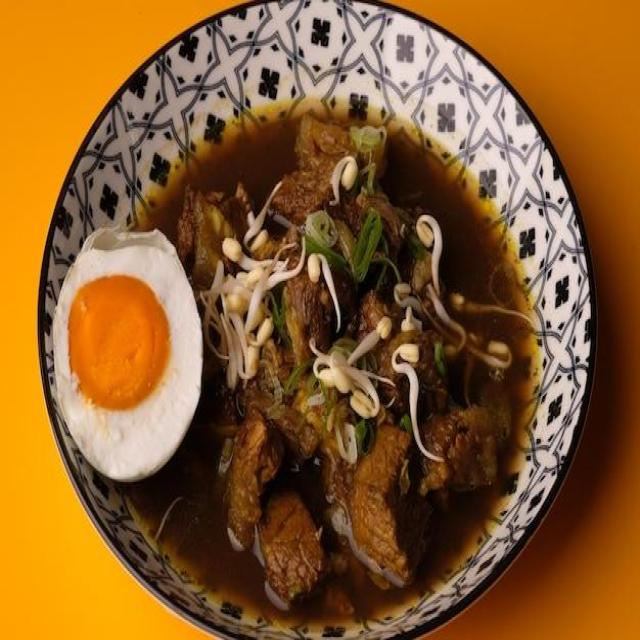Rawon: (102, 98, 531, 572)
